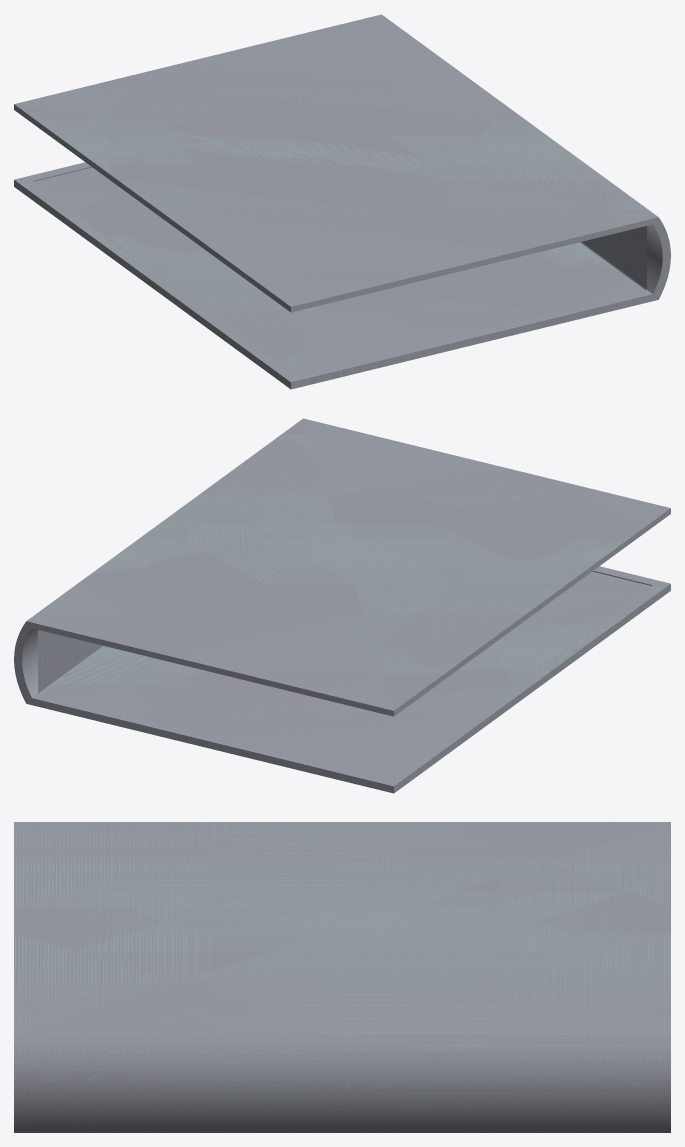
File: book_cover.dae
The picture shows the model from 3 angles, top to bottom: view 1: azimuth 30°, elevation 25°; view 2: azimuth 150°, elevation 25°; view 3: azimuth 270°, elevation 25°; orthographic projection. The views are drawn at different scales.
Visible parts, largest first — view 1: group_1_001; view 2: group_1_001; view 3: group_1_001.
Boxes of the visible parts, x1,y1,x2,y2 form: group_1_001: [14, 14, 670, 389]; group_1_001: [14, 418, 670, 793]; group_1_001: [14, 822, 670, 1132].
Bounding box in the file's own units: 0.1981 × 0.2501 × 0.0412.
